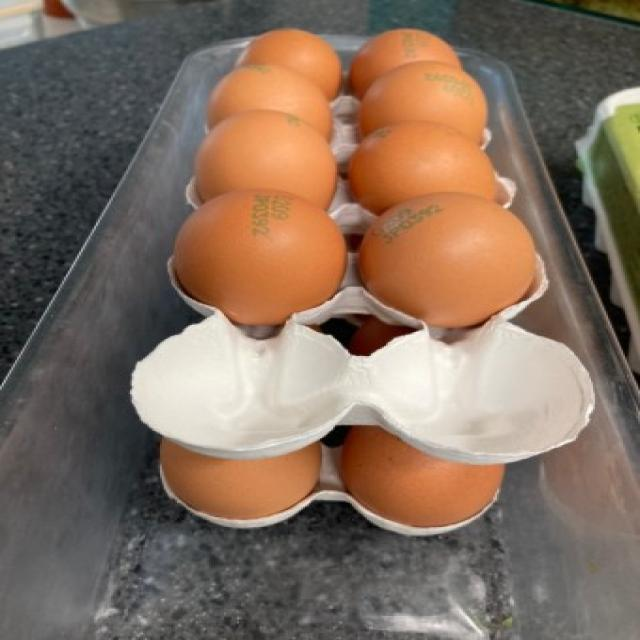eggs: (168, 189, 356, 324), (349, 196, 537, 324), (342, 413, 520, 528), (184, 108, 344, 218), (162, 433, 328, 525), (355, 60, 496, 151), (346, 126, 506, 206), (204, 62, 330, 136), (353, 29, 465, 107), (237, 24, 341, 87)
